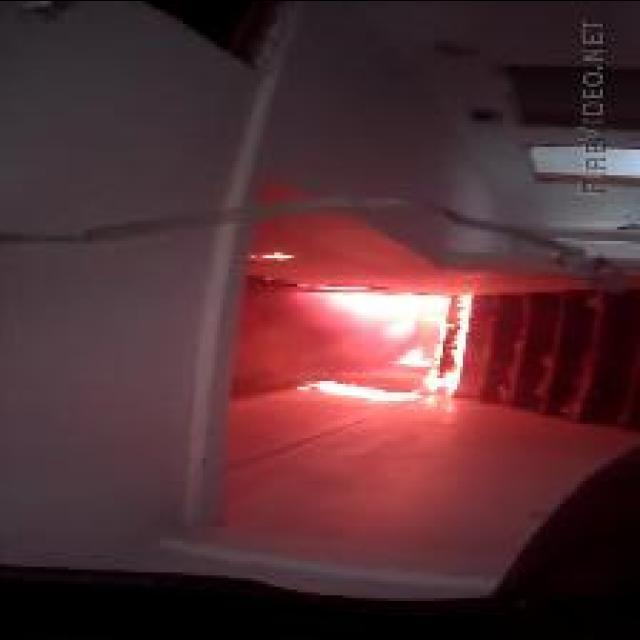Fire: (304, 289, 472, 397), (296, 377, 424, 400)
